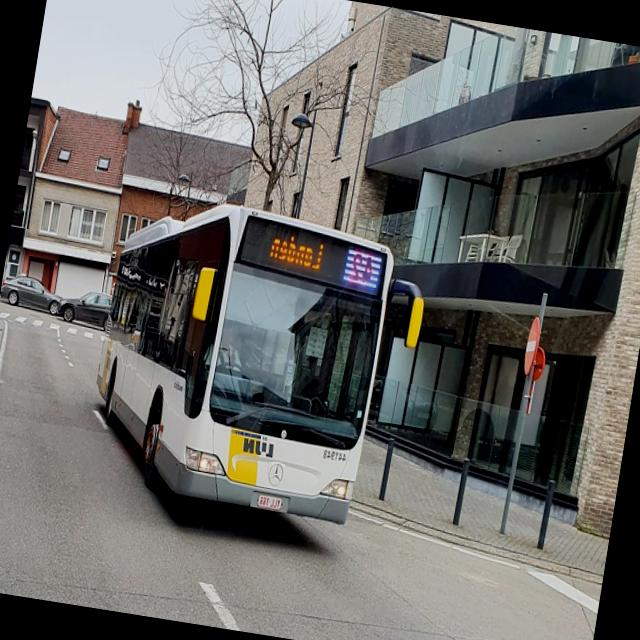bus-number: (343, 251, 382, 287)
